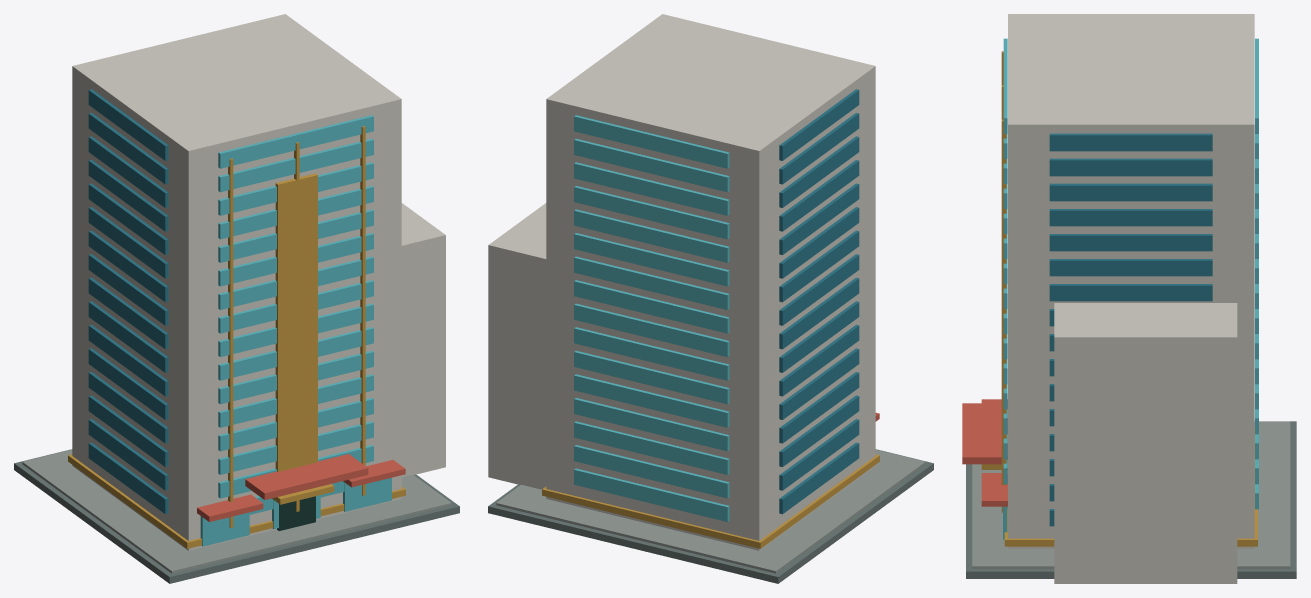
Rendered from hotel_lv3.glb.
The picture shows the model from 3 angles, left to right: view 1: azimuth 30°, elevation 25°; view 2: azimuth 150°, elevation 25°; view 3: azimuth 270°, elevation 25°; orthographic projection. The views are drawn at different scales.
Visible parts, largest first — view 1: rough, glossy; view 2: rough, glossy; view 3: rough, glossy.
Part boxes in pixels (x1,y1,x2,y2): rough: (14,14,459,583); glossy: (88,89,391,546); rough: (488,14,933,583); glossy: (574,89,859,521); rough: (962,14,1296,583); glossy: (1003,38,1258,539).
Bounding box in the file's own units: 10.73 × 13.2 × 9.2.
